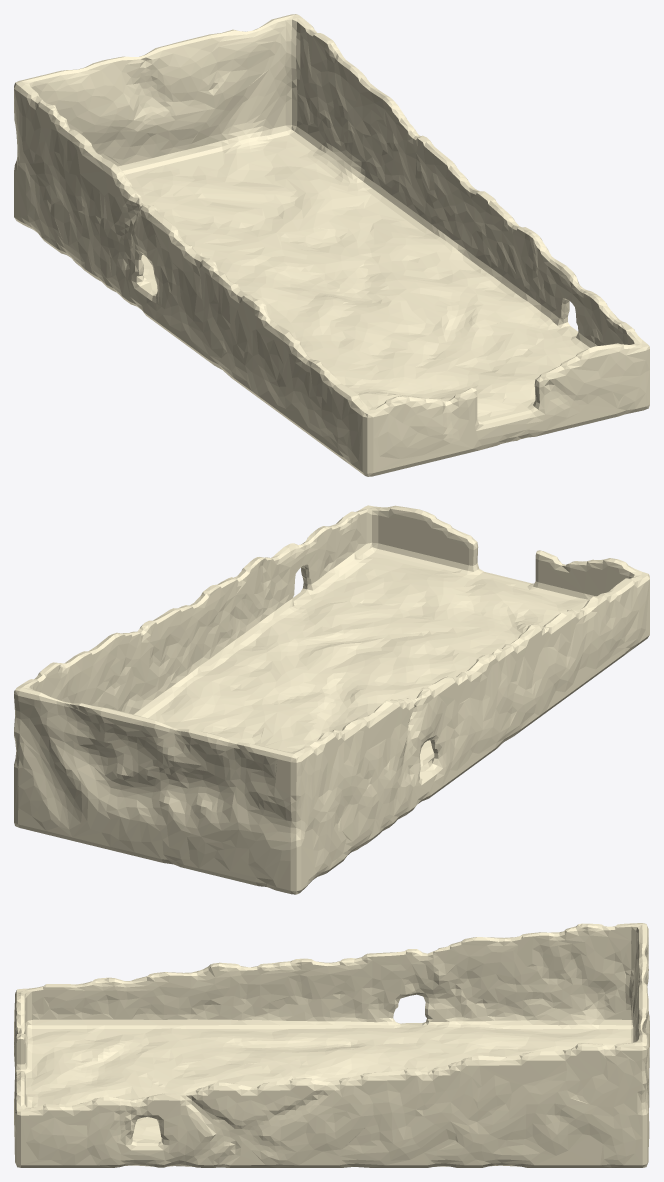
File: hallWallsFloor.fbx
3 views of the same model, one above another, from view 1: azimuth 30°, elevation 25°; view 2: azimuth 150°, elevation 25°; view 3: azimuth 270°, elevation 25° (orthographic). The views are drawn at different scales.
Parts seen in each view (by area): view 1: Cube; view 2: Cube; view 3: Cube.
Boxes of the visible parts, <box> form: Cube: <box>14,14,649,476</box>; Cube: <box>14,505,649,894</box>; Cube: <box>14,923,649,1167</box>.
Bounding box in the file's own units: 2843 × 1301 × 6022.
